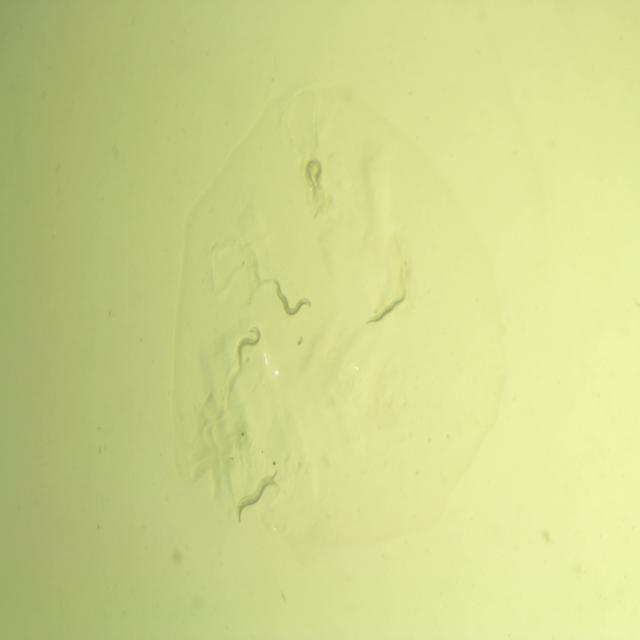worm: (365, 281, 410, 340), (262, 272, 314, 322), (233, 467, 281, 518), (234, 478, 280, 526), (233, 318, 266, 373), (302, 152, 328, 210)
